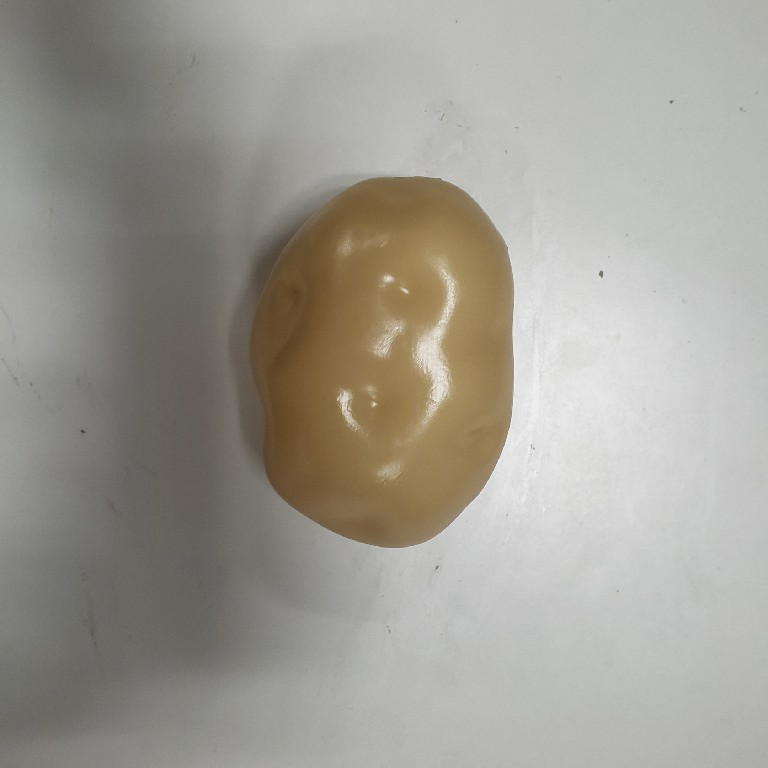fruit_potato: (240, 171, 520, 554)
